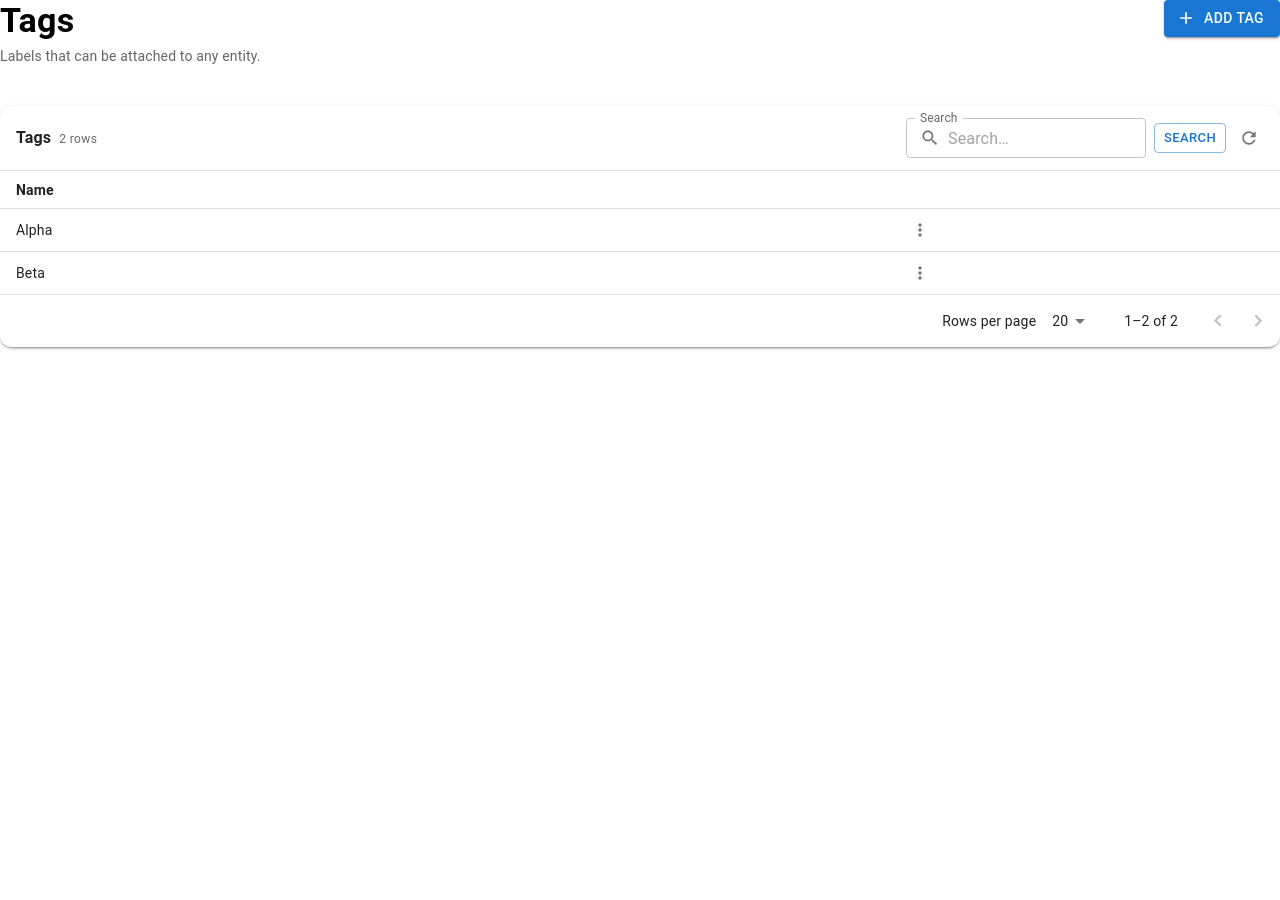
CrudPage › opens the dialog in edit mode from the row menu
What coordinates should you click on to do the following:
click the button named "more actions" in the row of "Alpha"
I would click on:
 (920, 230)
Its box is [905,215,935,245].
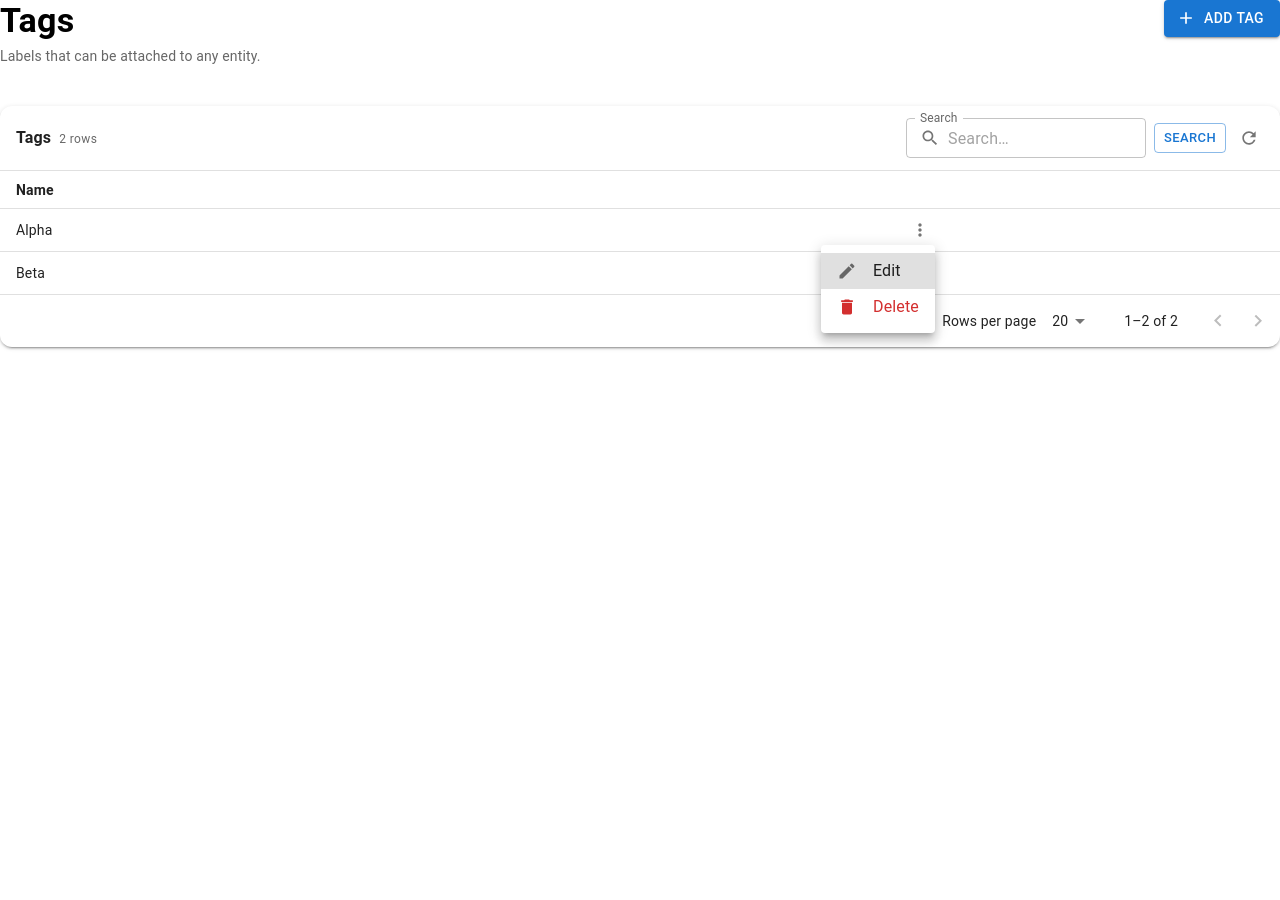
What coordinates should you click on to do the following:
click the menu item "Edit"
I would click on:
 (878, 271)
Its box is [821,253,935,289].
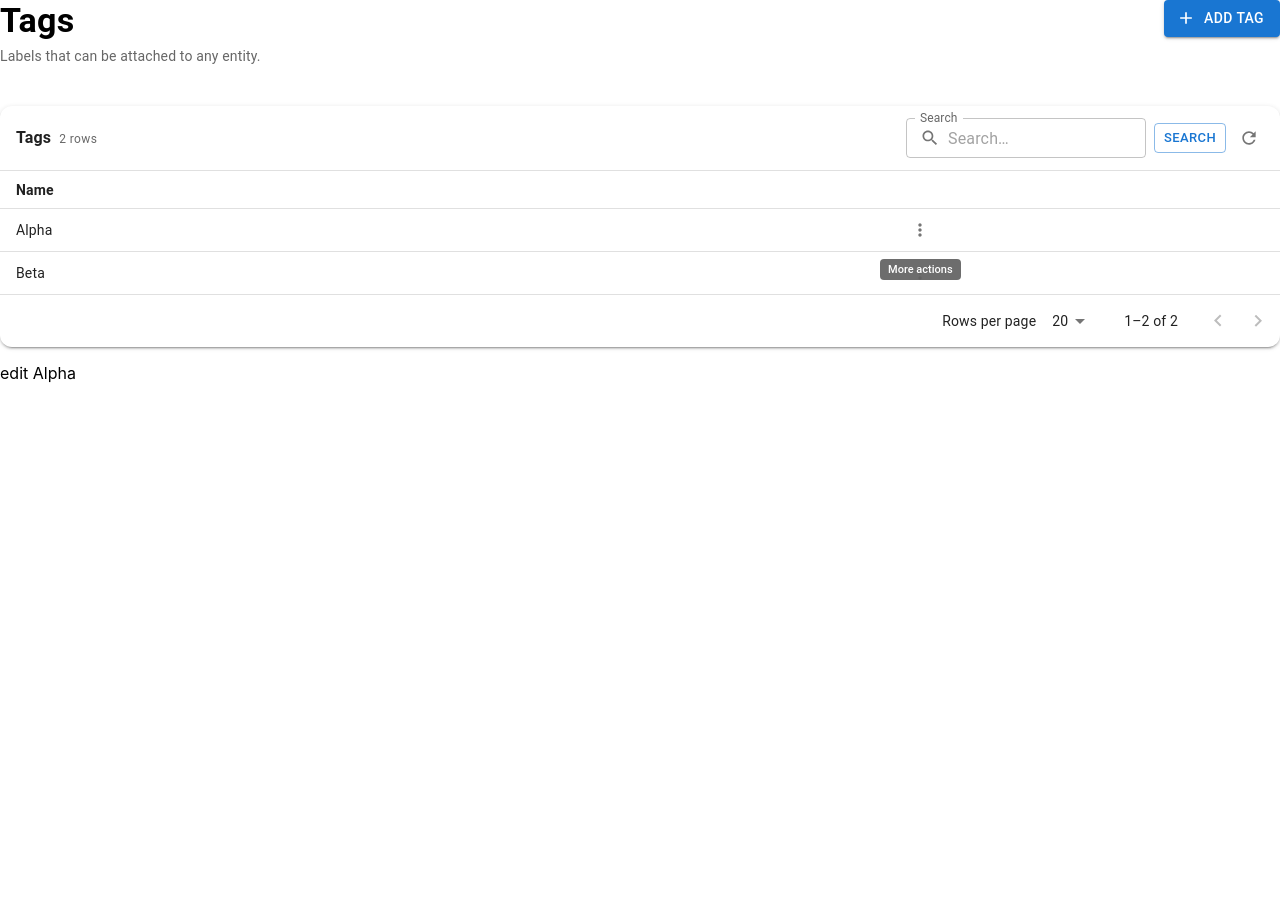
Result: the dialog reads "edit Alpha" at [0,363,76,383]
